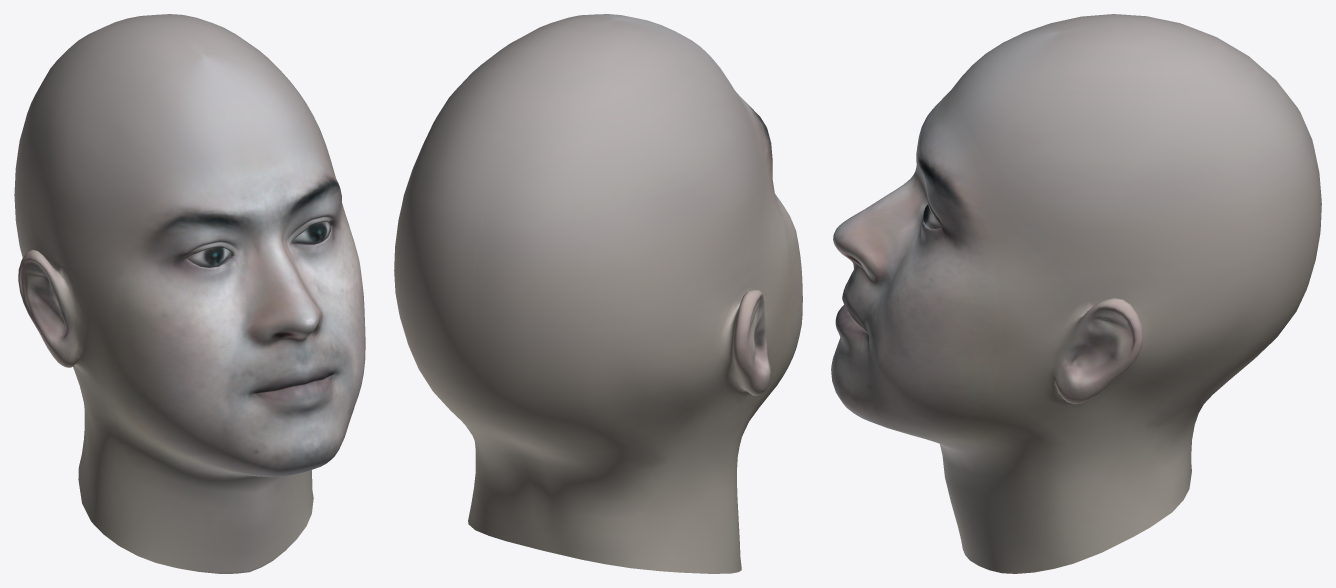
3 renders of one model, left to right at view 1: azimuth 30°, elevation 25°; view 2: azimuth 150°, elevation 25°; view 3: azimuth 270°, elevation 25°, orthographic. The views are drawn at different scales.
Visible parts, largest first — view 1: skin_hi, eyeR_hi, eyeL_hi; view 2: skin_hi; view 3: skin_hi.
Part boxes in pixels (x1,y1,x2,y2): skin_hi: [14, 14, 365, 573]; eyeR_hi: [187, 247, 231, 267]; eyeL_hi: [291, 222, 330, 244]; skin_hi: [394, 14, 802, 573]; skin_hi: [831, 14, 1321, 573].
Size of the model in its own units: 181 by 282 by 240.
Materials: 3 (3 with a texture image).
